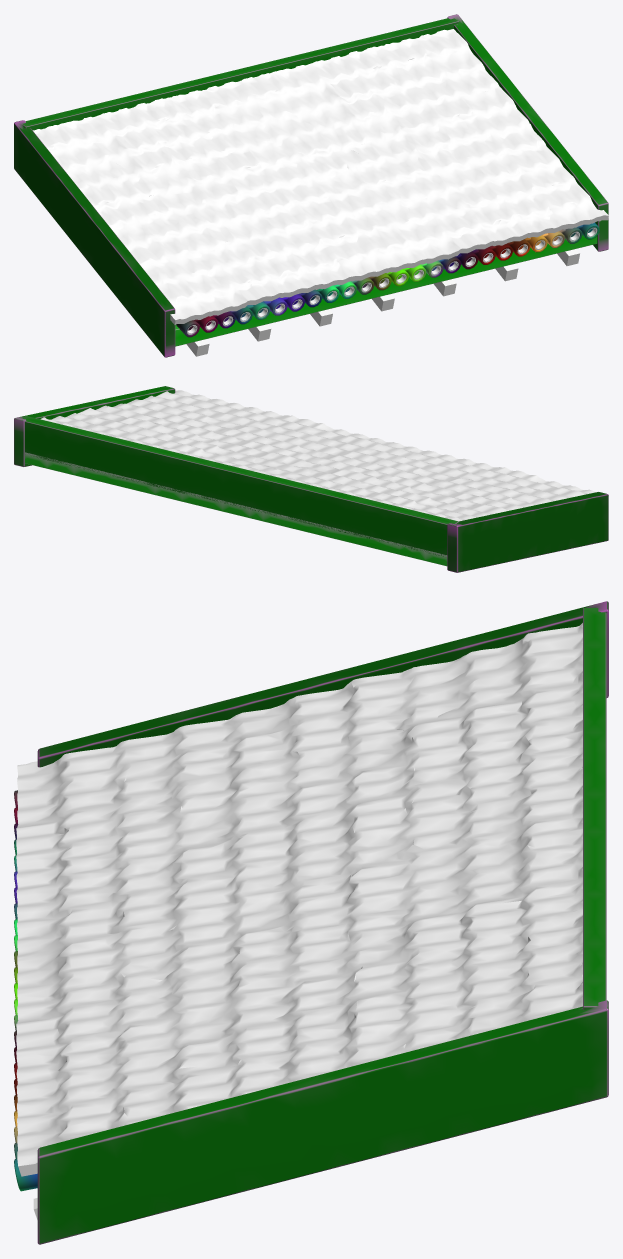
File: overhang_slope_200_01_standalone.fbx
3 renders of one model, top to bottom at view 1: azimuth 30°, elevation 25°; view 2: azimuth 150°, elevation 25°; view 3: azimuth 270°, elevation 25°, orthographic. The views are drawn at different scales.
Parts seen in each view (by area): view 1: overhang_slope_200_01_standalone; view 2: overhang_slope_200_01_standalone; view 3: overhang_slope_200_01_standalone.
Part boxes in pixels (left/top/right/bottom): overhang_slope_200_01_standalone: left=14, top=14, right=608, bottom=357; overhang_slope_200_01_standalone: left=14, top=386, right=608, bottom=572; overhang_slope_200_01_standalone: left=14, top=601, right=608, bottom=1244.
Size of the model in its own units: 4.1 by 1.17 by 2.52.
